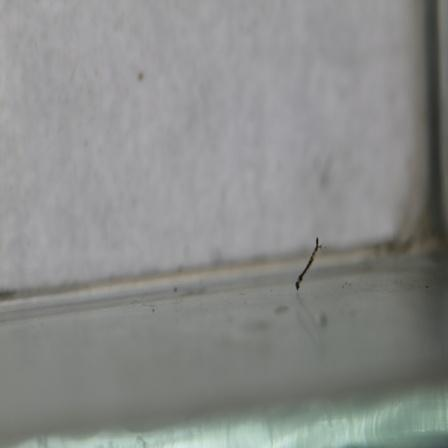Jentik-Nyamuk: (292, 236, 331, 294)
